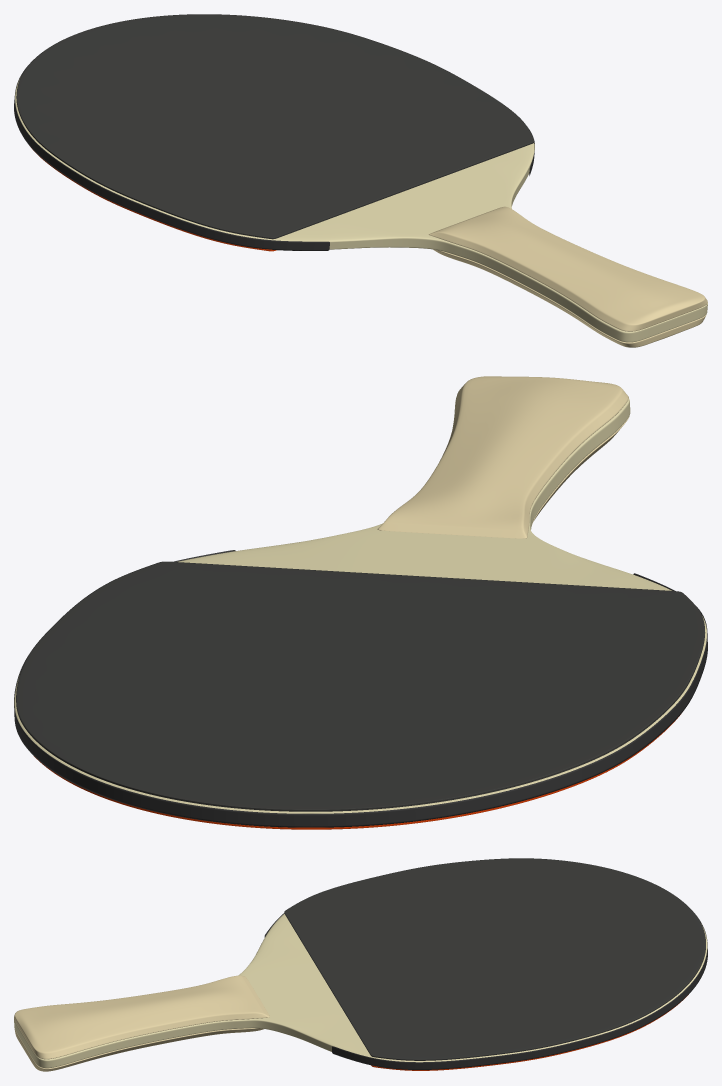
File: raquete de ping pong.fbx
The picture shows the model from 3 angles, top to bottom: view 1: azimuth 30°, elevation 25°; view 2: azimuth 150°, elevation 25°; view 3: azimuth 270°, elevation 25°; orthographic projection. The views are drawn at different scales.
Parts seen in each view (by area): view 1: Circle.007, Circle.009, Circle.005, Circle.006; view 2: Circle.007, Circle.005, Circle.009, Circle.006, Circle.008; view 3: Circle.007, Circle.005, Circle.009, Circle.006, Circle.008.
Boxes of the visible parts, <box> form: Circle.007: <box>16,14,534,239</box>; Circle.009: <box>15,75,707,342</box>; Circle.005: <box>428,206,707,347</box>; Circle.006: <box>14,62,534,250</box>; Circle.007: <box>16,561,705,811</box>; Circle.005: <box>377,376,629,538</box>; Circle.009: <box>14,398,706,813</box>; Circle.006: <box>14,550,707,827</box>; Circle.008: <box>34,714,680,829</box>; Circle.007: <box>284,858,705,1060</box>; Circle.005: <box>14,975,269,1071</box>; Circle.009: <box>14,914,707,1068</box>; Circle.006: <box>264,910,707,1069</box>; Circle.008: <box>371,994,688,1070</box>.
Bounding box in the file's own units: 704 × 109 × 1176.
